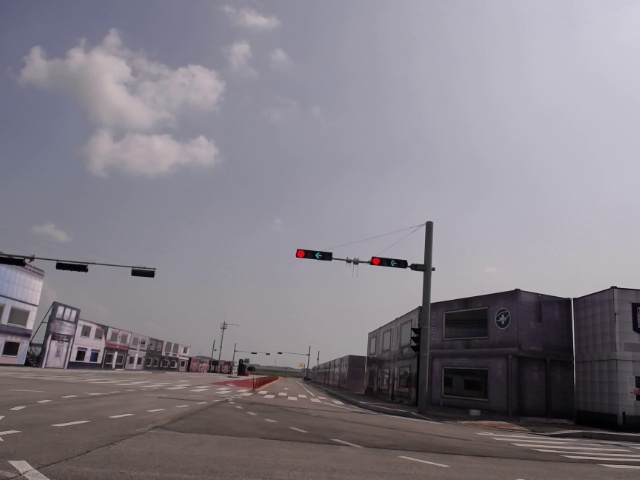left_green_4: (297, 249, 332, 261), (372, 257, 407, 268)
